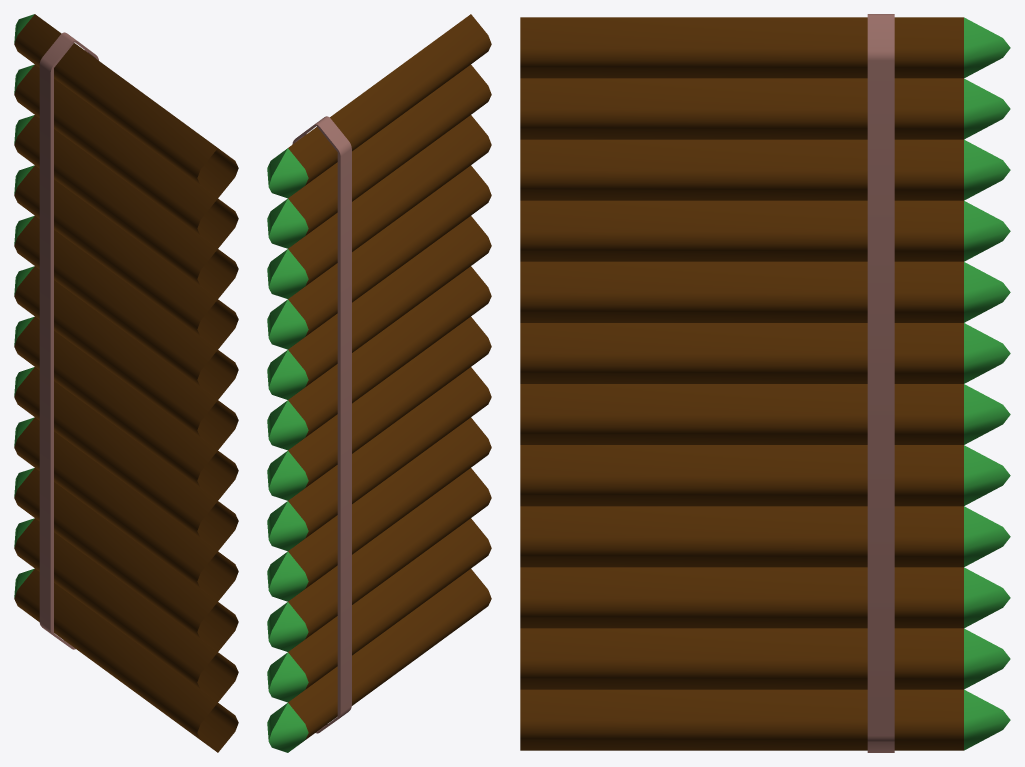
File: WoodWall.fbx
3 views of the same model, side by side, from view 1: azimuth 30°, elevation 25°; view 2: azimuth 150°, elevation 25°; view 3: azimuth 270°, elevation 25° (orthographic). The views are drawn at different scales.
Parts seen in each view (by area): view 1: LeatherStrap; view 2: LeatherStrap; view 3: LeatherStrap.
Boxes of the visible parts, x1,y1,x2,y2 form: LeatherStrap: [14, 14, 238, 752]; LeatherStrap: [267, 14, 491, 752]; LeatherStrap: [520, 14, 1010, 752].
Bounding box in the file's own units: 97.86 × 1175 × 708.
